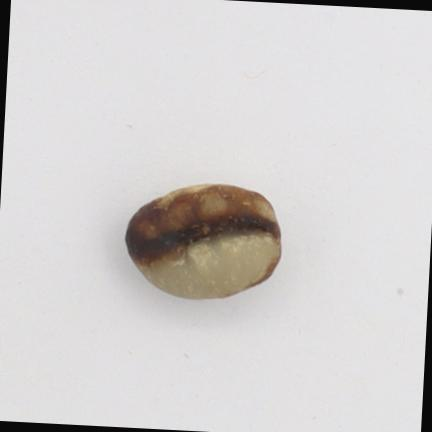partial-black: (126, 185, 281, 299)
